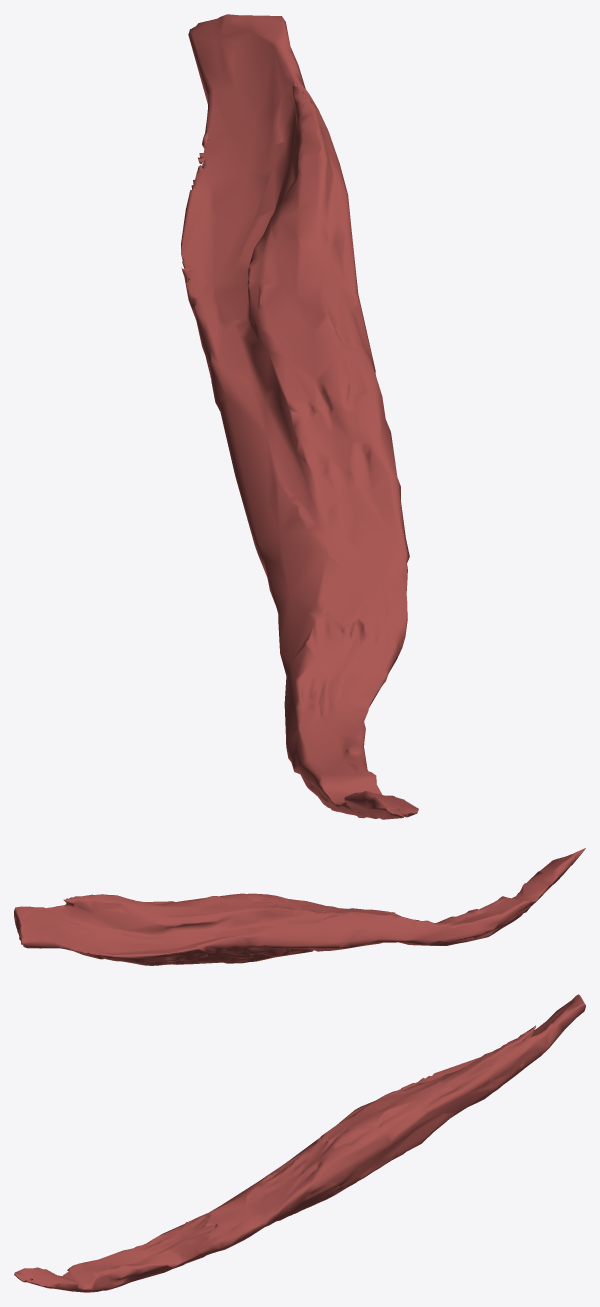
The model's file is FMA37471.glb.
3 renders of one model, top to bottom at view 1: azimuth 30°, elevation 25°; view 2: azimuth 150°, elevation 25°; view 3: azimuth 330°, elevation 25°, orthographic. The views are drawn at different scales.
Parts seen in each view (by area): view 1: FMA37471; view 2: FMA37471; view 3: FMA37471.
Boxes of the visible parts, bbox=[...] form: FMA37471: bbox=[181, 14, 418, 819]; FMA37471: bbox=[14, 848, 585, 965]; FMA37471: bbox=[14, 994, 585, 1292].
Bounding box in the file's own units: 0.0319 × 0.0179 × 0.0708.
